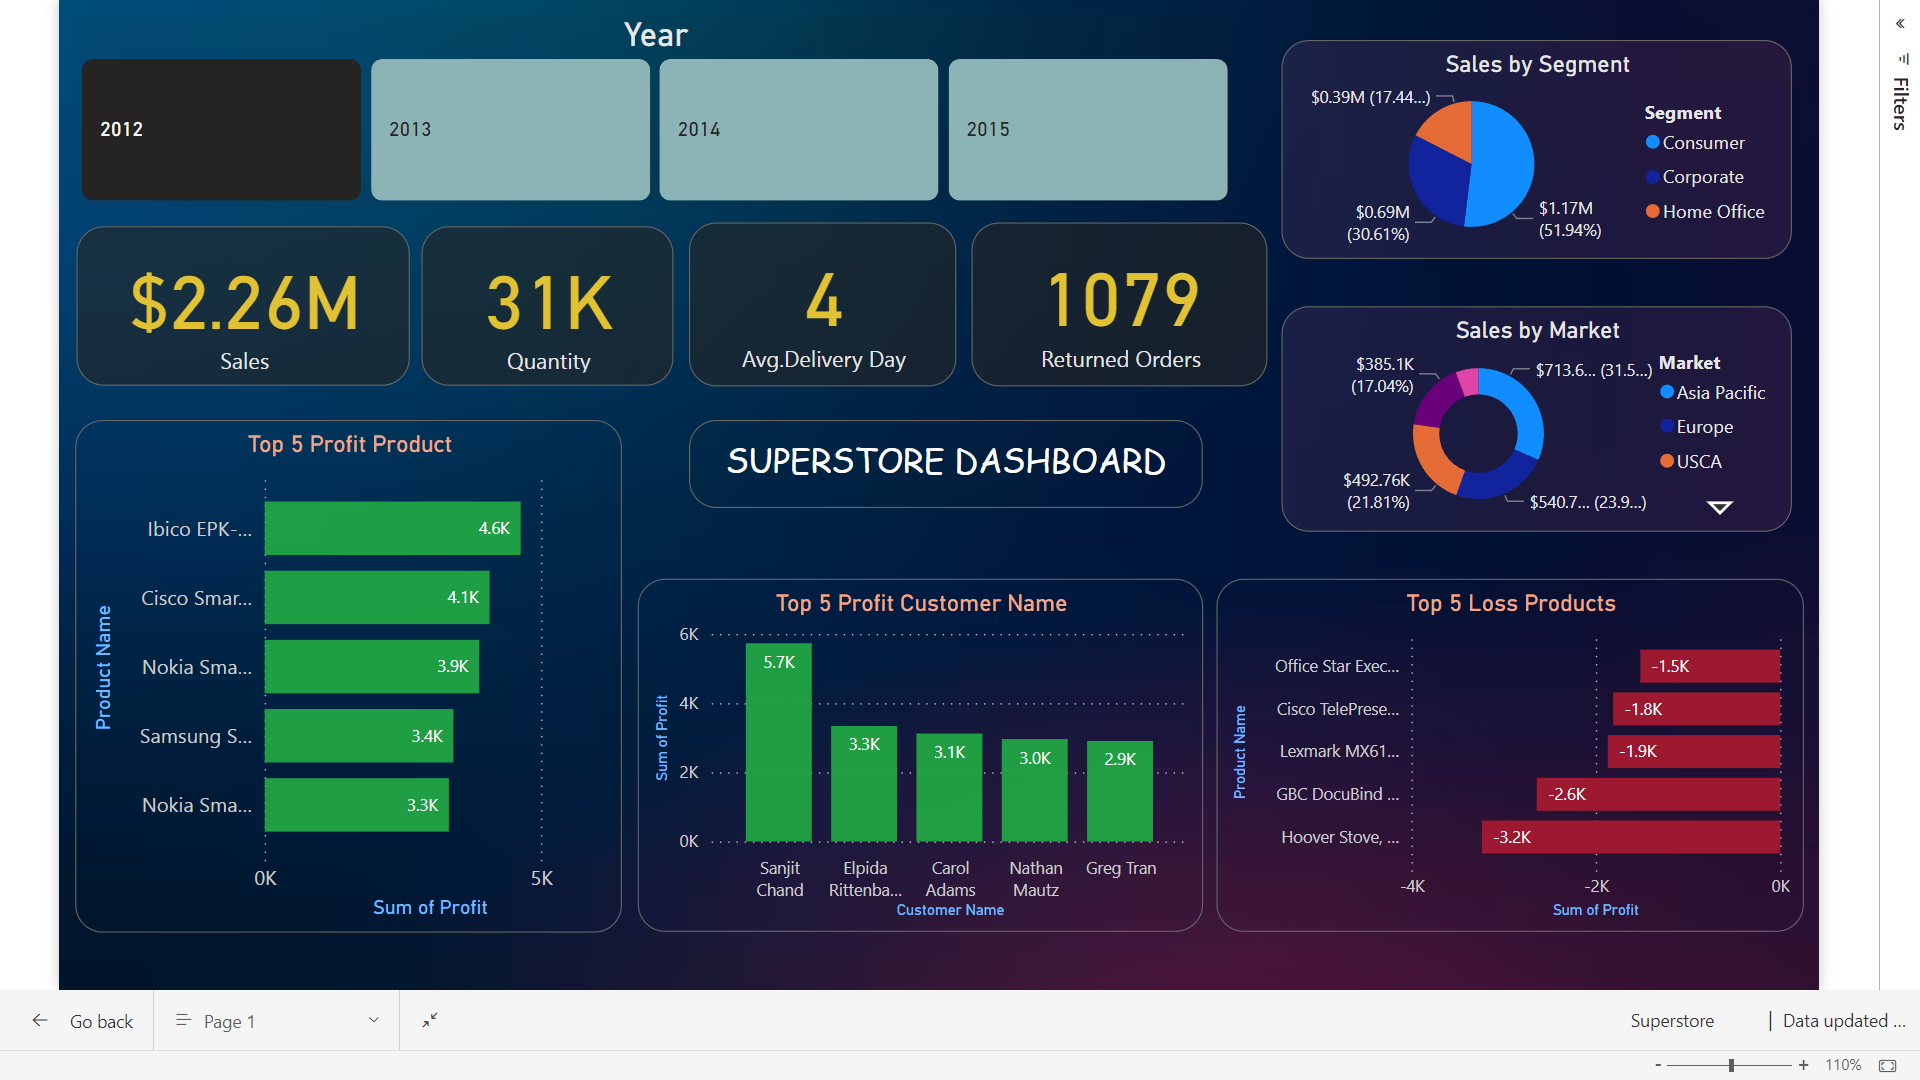

The page's visual inventory and layout, read from the dashboard file:
{"tool":"powerbi","page":{"name":"Page 1","canvas":[1280,720],"ordinal":0},"visuals":[{"type":"card","fields":{"Values":["Sum(Orders.Sales)"]},"box":[12.1,165.2,242.4,115.8],"z":0},{"type":"card","fields":{"Values":["Sum(Orders.Quantity)"]},"box":[262.9,165.2,183.3,115.8],"z":1000},{"type":"card","fields":{"Values":["Avg(Orders.Delivery Days)"]},"box":[458.3,165.2,194.2,118.2],"z":2000},{"type":"advancedSlicerVisual","title":"Year","fields":{"Values":["Orders.Order Year"]},"box":[12.1,10.9,844.2,141.1],"z":3000},{"type":"card","fields":{"Values":["Sum(Returns.Returned Column)"]},"box":[663.3,162.8,215.9,118.2],"z":4000},{"type":"barChart","title":"Top 5 Profit Product","fields":{"Category":["Orders.Product Name"],"Y":["Sum(Orders.Profit)"]},"box":[12.1,305.1,398,372.7],"z":5000},{"type":"barChart","title":"Top 5 Loss Products","fields":{"Category":["Orders.Product Name"],"Y":["Sum(Orders.Profit)"]},"box":[841.8,420.9,426.9,256.9],"z":6000},{"type":"pieChart","title":"Sales by Segment","fields":{"Category":["Orders.Segment"],"Y":["Sum(Orders.Sales)"]},"box":[888.8,28.9,371.5,159.2],"z":7000},{"type":"donutChart","title":"Sales by Market","fields":{"Y":["Sum(Orders.Sales)"],"Category":["Orders.Market"]},"box":[888.8,223.1,371.5,164],"z":8000},{"type":"columnChart","title":"Top 5 Profit Customer Name","fields":{"Category":["Orders.Customer Name"],"Y":["Sum(Orders.Profit)"]},"box":[420.9,420.9,411.3,256.9],"z":9000},{"type":"textbox","box":[458.3,305.1,373.9,63.9],"z":10000}]}

Visuals, with their boxes on the page's 1280x720 design canvas (x1, y1, x2, y2). These are canvas units, not pixel positions in the 1920x1080 screenshot, which may show the page scaled, cropped or inside an application window:
card - Sum(Orders.Sales): rect(12, 165, 254, 281)
card - Sum(Orders.Quantity): rect(263, 165, 446, 281)
card - Avg(Orders.Delivery Days): rect(458, 165, 652, 283)
"Year" advancedSlicerVisual: rect(12, 11, 856, 152)
card - Sum(Returns.Returned Column): rect(663, 163, 879, 281)
"Top 5 Profit Product" barChart: rect(12, 305, 410, 678)
"Top 5 Loss Products" barChart: rect(842, 421, 1269, 678)
"Sales by Segment" pieChart: rect(889, 29, 1260, 188)
"Sales by Market" donutChart: rect(889, 223, 1260, 387)
"Top 5 Profit Customer Name" columnChart: rect(421, 421, 832, 678)
textbox: rect(458, 305, 832, 369)
